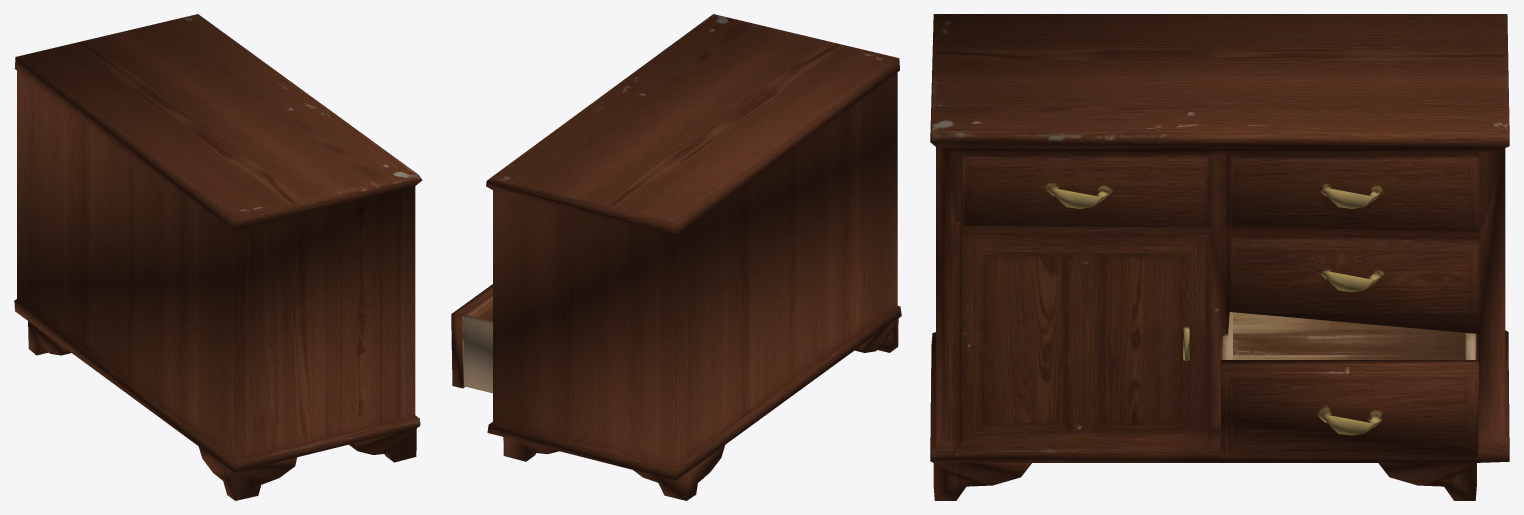
The model's file is Furn_Sideboard_Dining.fbx.
The picture shows the model from 3 angles, left to right: view 1: azimuth 30°, elevation 25°; view 2: azimuth 150°, elevation 25°; view 3: azimuth 270°, elevation 25°; orthographic projection. The views are drawn at different scales.
Parts seen in each view (by area): view 1: Furn_Sideboard_Dining_Body; view 2: Furn_Sideboard_Dining_Body, Furn_Sideboard_Dining_Drawer_R; view 3: Furn_Sideboard_Dining_Body, Furn_Sideboard_Dining_Drawer_R, Furn_Sideboard_Dining_Drawer_L.
Boxes of the visible parts, box(x1,y1,x2,y2) form: Furn_Sideboard_Dining_Body: box(14, 14, 422, 500); Furn_Sideboard_Dining_Body: box(486, 14, 901, 500); Furn_Sideboard_Dining_Drawer_R: box(451, 284, 492, 393); Furn_Sideboard_Dining_Body: box(930, 14, 1509, 500); Furn_Sideboard_Dining_Drawer_R: box(1220, 153, 1479, 457); Furn_Sideboard_Dining_Drawer_L: box(961, 153, 1211, 227).
Bounding box in the file's own units: 67.11 × 75 × 106.
Materials: 1 (1 with a texture image).
